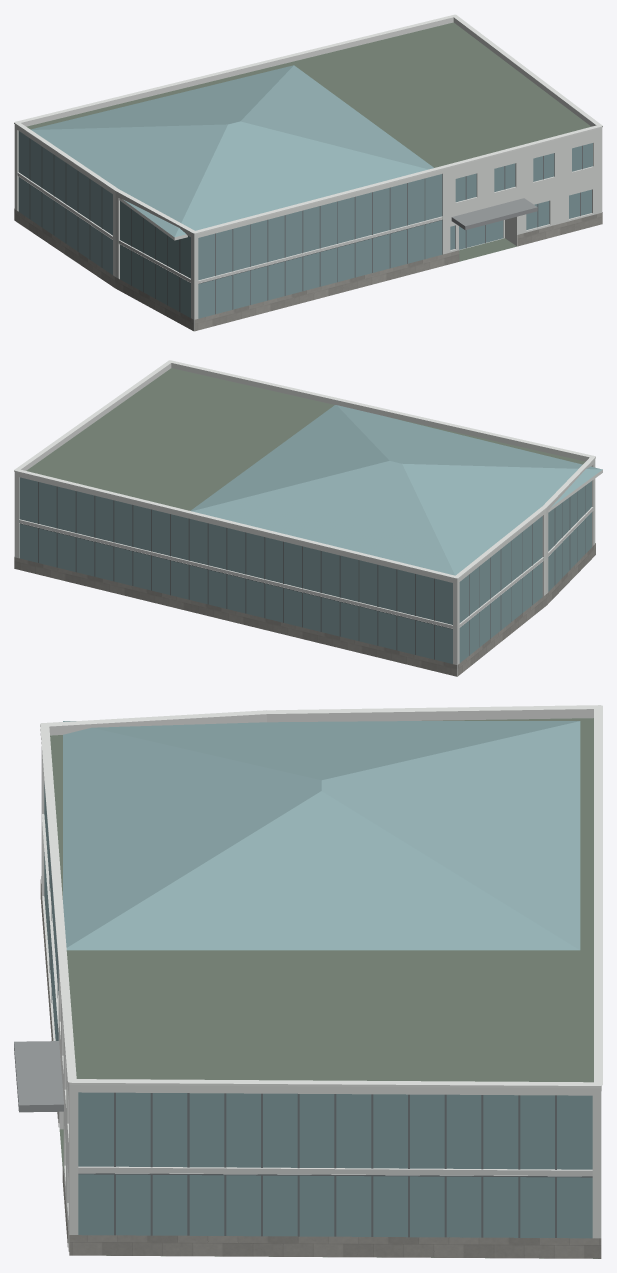
The picture shows the model from 3 angles, top to bottom: view 1: azimuth 30°, elevation 25°; view 2: azimuth 150°, elevation 25°; view 3: azimuth 270°, elevation 25°; orthographic projection. The views are drawn at different scales.
Parts seen in each view (by area): view 1: greenhouse__roofGlass, greenhouse__glass, greenhouse__roof, greenhouse__wall, greenhouse__base, greenhouse__parapet, greenhouse__trim, greenhouse__frame, greenhouse__spandrel, greenhouse__canopy; view 2: greenhouse__glass, greenhouse__roofGlass, greenhouse__roof, greenhouse__base, greenhouse__parapet, greenhouse__trim, greenhouse__frame, greenhouse__wall, greenhouse__spandrel; view 3: greenhouse__roofGlass, greenhouse__roof, greenhouse__glass, greenhouse__trim, greenhouse__base, greenhouse__parapet, greenhouse__wall, greenhouse__frame, greenhouse__canopy, greenhouse__spandrel.
Part boxes in pixels (left/top/right/bottom): greenhouse__roofGlass: left=31, top=65, right=433, bottom=237; greenhouse__glass: left=18, top=131, right=592, bottom=318; greenhouse__roof: left=26, top=22, right=590, bottom=261; greenhouse__wall: left=14, top=128, right=602, bottom=330; greenhouse__base: left=14, top=208, right=602, bottom=331; greenhouse__parapet: left=14, top=17, right=602, bottom=238; greenhouse__trim: left=14, top=14, right=602, bottom=240; greenhouse__frame: left=18, top=138, right=582, bottom=314; greenhouse__spandrel: left=17, top=173, right=442, bottom=283; greenhouse__canopy: left=451, top=198, right=537, bottom=230; greenhouse__glass: left=19, top=466, right=591, bottom=663; greenhouse__roofGlass: left=190, top=405, right=602, bottom=575; greenhouse__roof: left=26, top=368, right=585, bottom=676; greenhouse__base: left=14, top=543, right=595, bottom=676; greenhouse__parapet: left=14, top=363, right=595, bottom=583; greenhouse__trim: left=14, top=360, right=602, bottom=579; greenhouse__frame: left=19, top=482, right=585, bottom=659; greenhouse__wall: left=14, top=462, right=595, bottom=676; greenhouse__spandrel: left=19, top=507, right=593, bottom=628; greenhouse__roofGlass: left=63, top=721, right=580, bottom=950; greenhouse__roof: left=50, top=718, right=597, bottom=1258; greenhouse__glass: left=44, top=783, right=592, bottom=1238; greenhouse__trim: left=40, top=705, right=602, bottom=1088; greenhouse__base: left=40, top=876, right=601, bottom=1258; greenhouse__parapet: left=49, top=709, right=601, bottom=1094; greenhouse__wall: left=41, top=748, right=601, bottom=1251; greenhouse__frame: left=49, top=847, right=592, bottom=1237; greenhouse__canopy: left=14, top=1041, right=63, bottom=1112; greenhouse__spandrel: left=78, top=1167, right=592, bottom=1176.
Size of the model in its own units: 35.9 by 9.42 by 23.46.
Materials: 11 (1 with a texture image).
